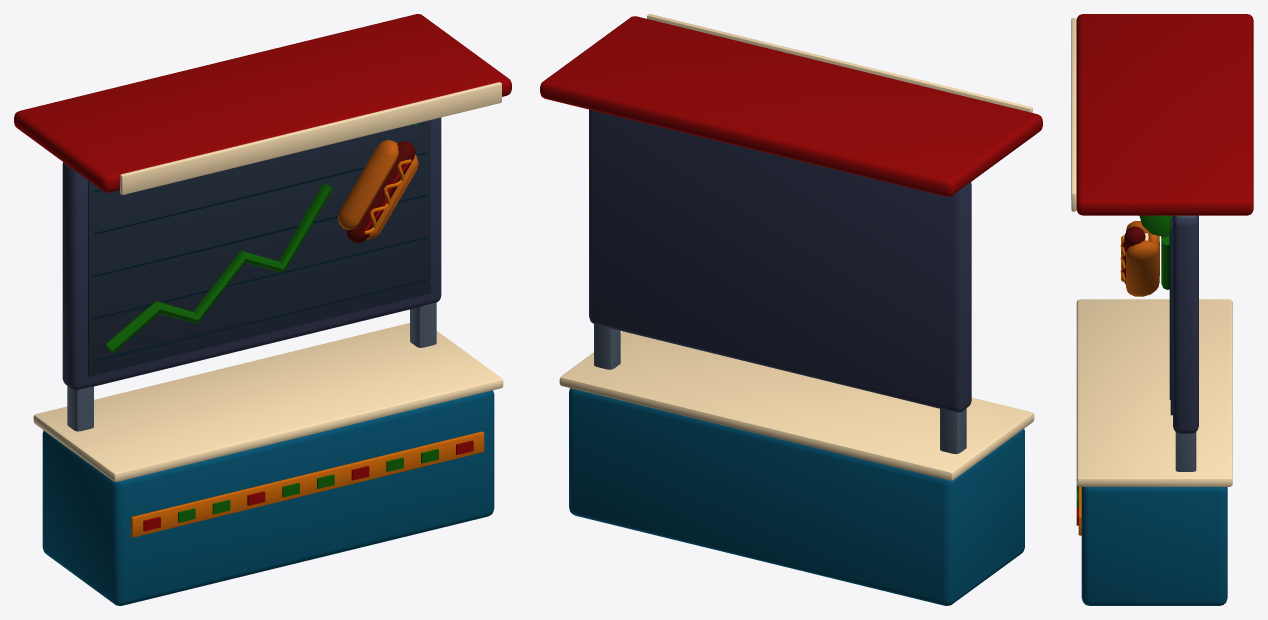
Rendered from TradingTicker.obj.
3 renders of one model, left to right at view 1: azimuth 30°, elevation 25°; view 2: azimuth 150°, elevation 25°; view 3: azimuth 270°, elevation 25°, orthographic. The views are drawn at different scales.
Parts seen in each view (by area): view 1: TradingTicker; view 2: TradingTicker; view 3: TradingTicker.
Part boxes in pixels (<box>): TradingTicker: <box>14,14,511,605</box>; TradingTicker: <box>540,14,1042,605</box>; TradingTicker: <box>1071,14,1253,605</box>.
Size of the model in its own units: 8.6 by 8.8 by 3.5.
